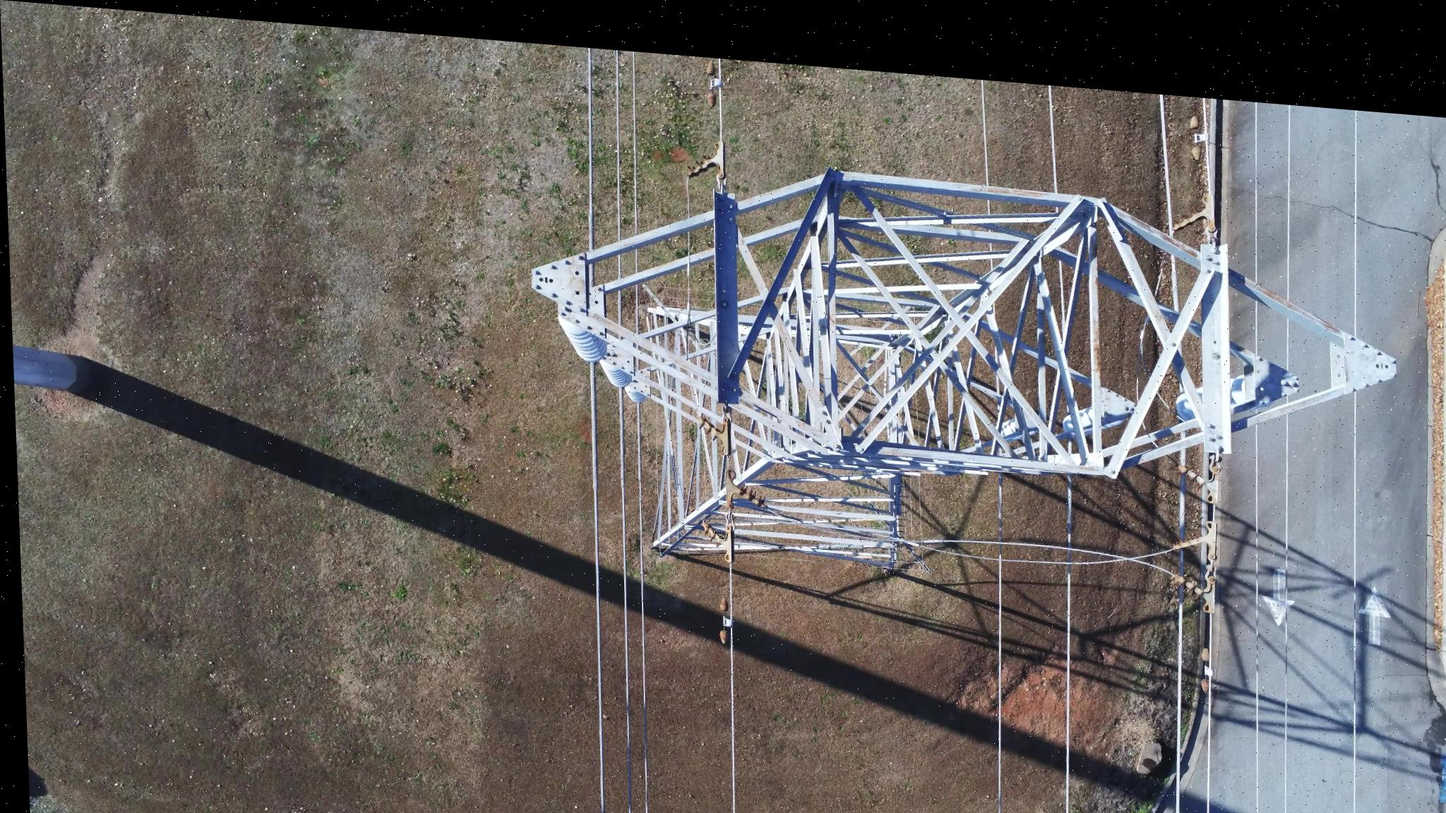tower: (518, 143, 1409, 618)
